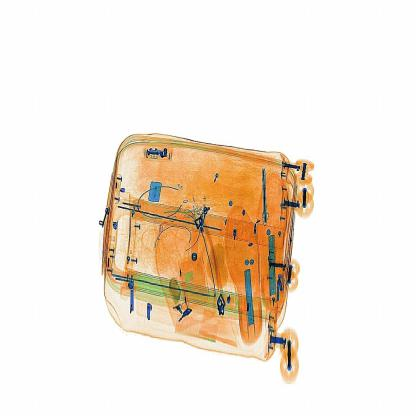knife: (262, 172, 270, 226)
